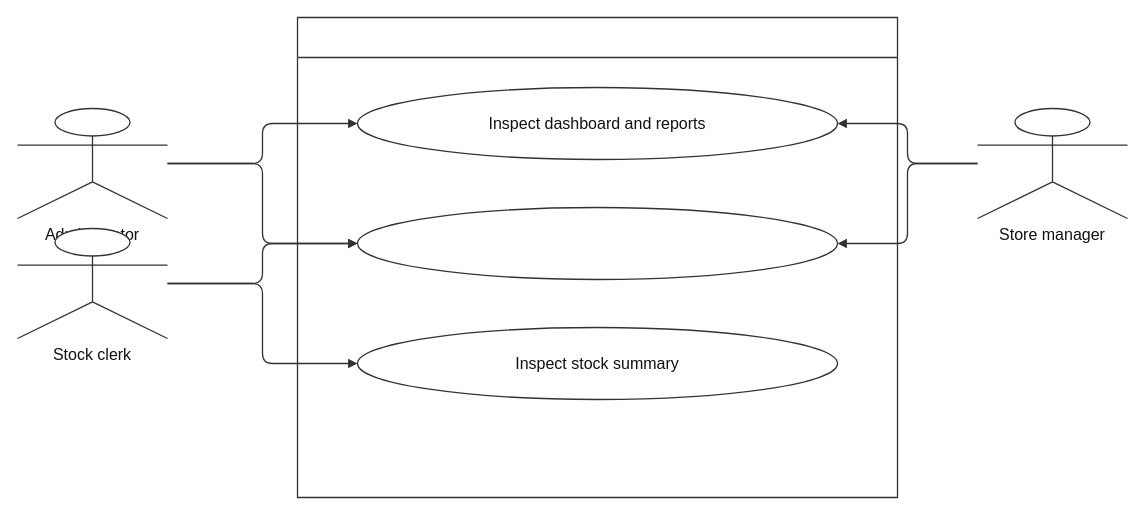
This 1146x516 diagram has some shape labels left out. The box of each missing label's shape, as (x1, y1, x2, y2) in pixels:
Export current inventory page: (356, 206, 838, 280)
Inventory reporting: (296, 16, 898, 498)
